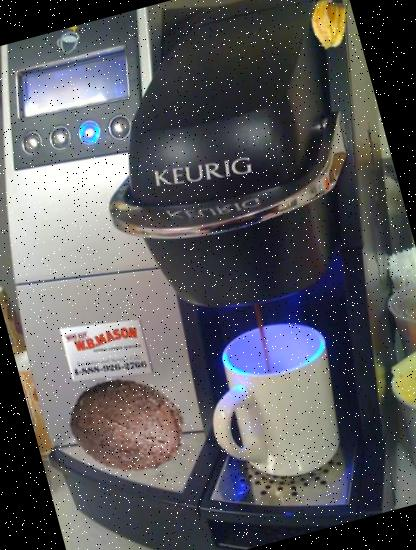Cocos: (55, 353, 200, 498)
Physalis: (297, 0, 361, 57)
